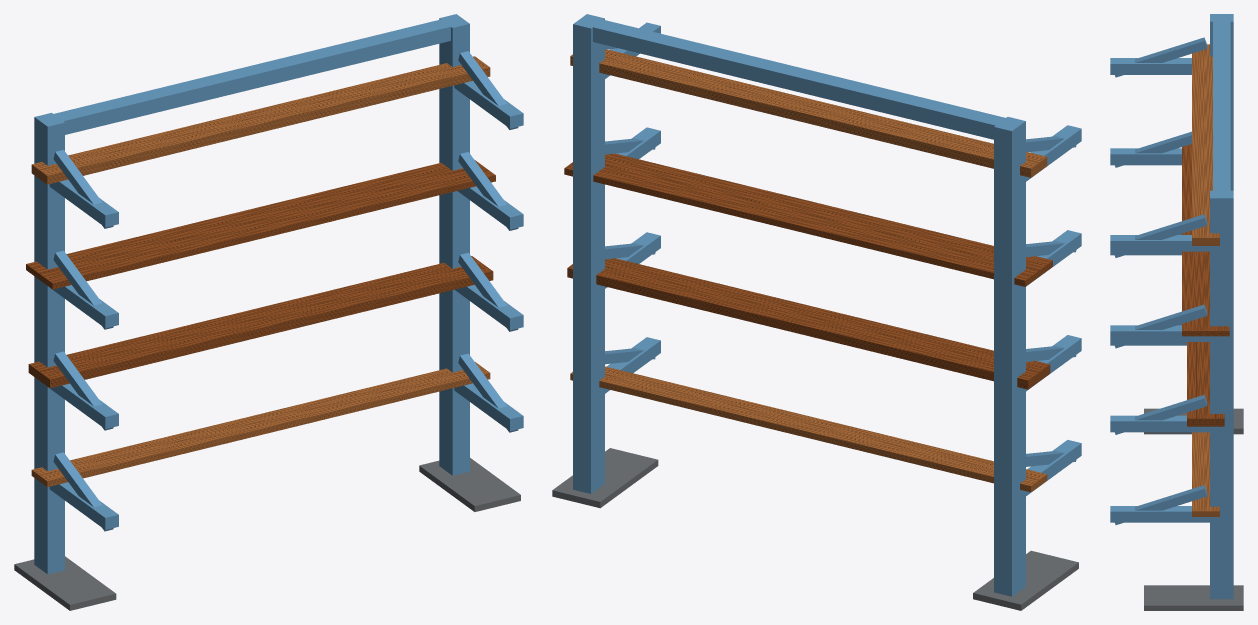
Rendered from woodworking-workshop-and-joinery-woodworking-workshop--589187d1__34260.glb.
3 renders of one model, left to right at view 1: azimuth 30°, elevation 25°; view 2: azimuth 150°, elevation 25°; view 3: azimuth 270°, elevation 25°, orthographic. The views are drawn at different scales.
Parts seen in each view (by area): view 1: woodworking-workshop-and-joinery-timber-rack-part-loaded; view 2: woodworking-workshop-and-joinery-timber-rack-part-loaded; view 3: woodworking-workshop-and-joinery-timber-rack-part-loaded.
Boxes of the visible parts, left/top/right/bottom form: woodworking-workshop-and-joinery-timber-rack-part-loaded: left=14, top=14, right=523, bottom=610; woodworking-workshop-and-joinery-timber-rack-part-loaded: left=552, top=14, right=1081, bottom=610; woodworking-workshop-and-joinery-timber-rack-part-loaded: left=1110, top=14, right=1243, bottom=610.
Size of the model in its own units: 2.34 by 2.25 by 0.6699.
Materials: 4 (2 with a texture image).
